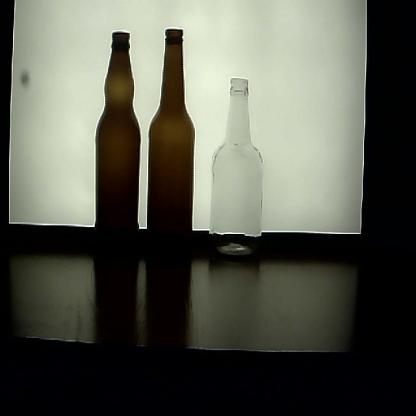Can: (91, 27, 141, 275), (148, 27, 197, 276), (207, 80, 266, 269)
